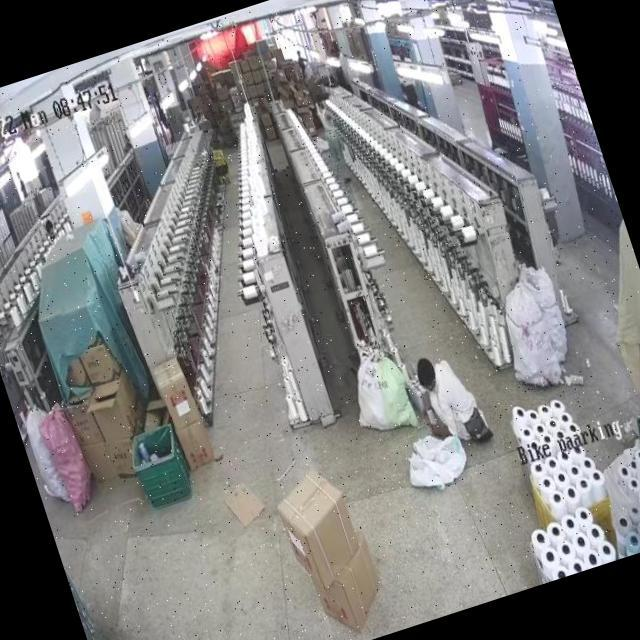person: (408, 347, 487, 442), (312, 94, 353, 185)
